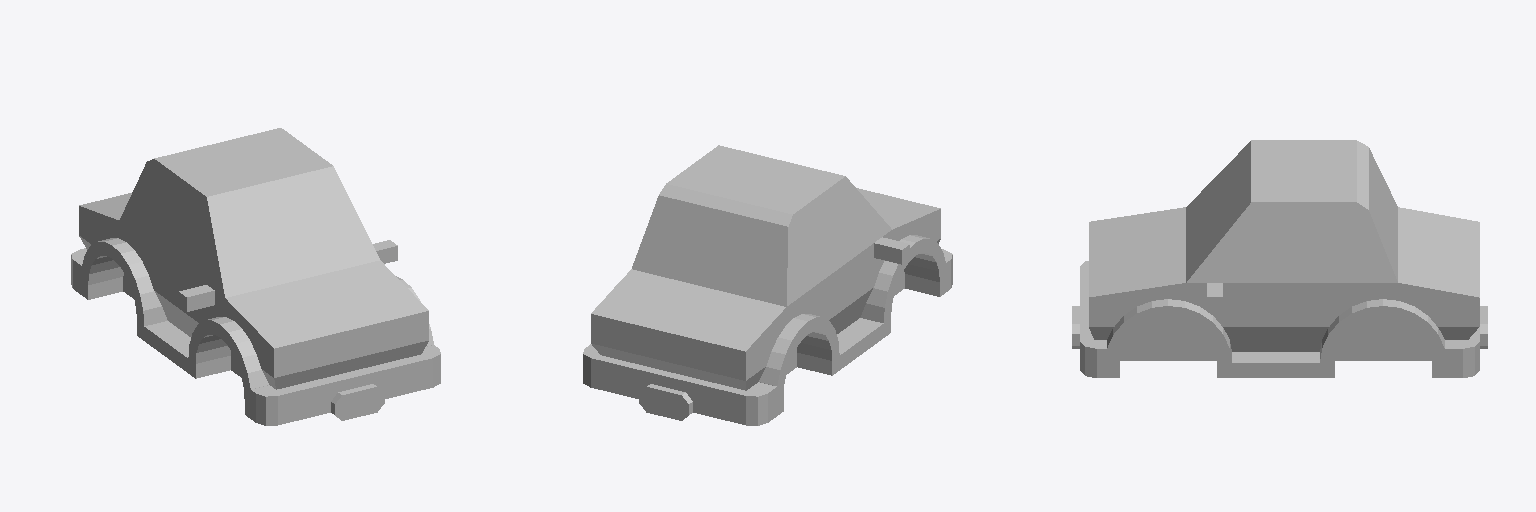
The model's file is sedan_sin_llantas.obj.
3 renders of one model, left to right at view 1: azimuth 30°, elevation 25°; view 2: azimuth 150°, elevation 25°; view 3: azimuth 270°, elevation 25°, orthographic.
Parts seen in each view (by area): view 1: sedan; view 2: sedan; view 3: sedan.
Boxes of the visible parts, x1,y1,x2,y2 form: sedan: [71, 128, 440, 425]; sedan: [583, 145, 952, 425]; sedan: [1072, 140, 1487, 377].
Bounding box in the file's own units: 1.5 × 1.15 × 2.55.